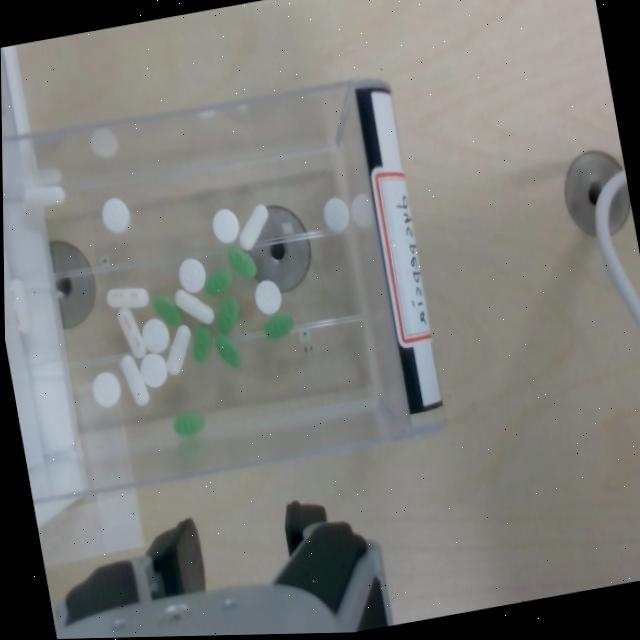magmil_tab: (101, 196, 130, 233), (91, 371, 120, 407), (141, 317, 169, 352), (179, 257, 206, 292), (140, 352, 167, 387), (212, 208, 239, 242), (323, 196, 349, 231), (255, 279, 281, 314)
medilacsenteric_tab: (117, 307, 145, 357), (120, 354, 148, 404), (174, 289, 214, 323), (239, 203, 267, 248), (166, 324, 190, 374), (8, 278, 30, 332), (106, 286, 148, 307), (24, 184, 65, 205)
nexilen_tab: (227, 246, 255, 277), (153, 295, 181, 326), (215, 333, 240, 366), (205, 267, 232, 295), (173, 411, 203, 436), (264, 312, 292, 338), (218, 296, 238, 332), (192, 324, 211, 360)
